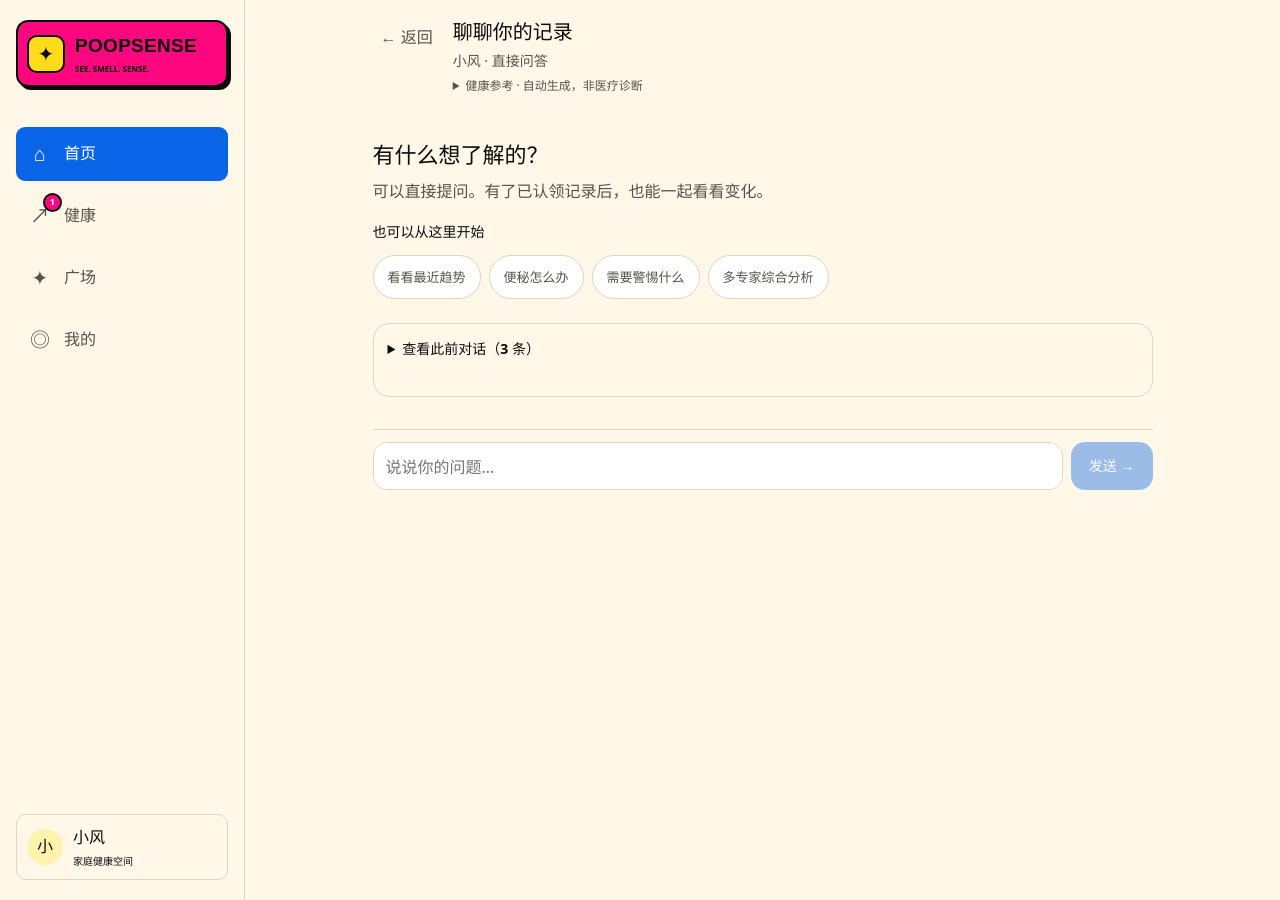
Test: model routing provenance › restores each saved model and leaves legacy messages without a guessed source
Click the heading "查看此前对话（3 条）" at (471, 349), box [402, 339, 540, 358]
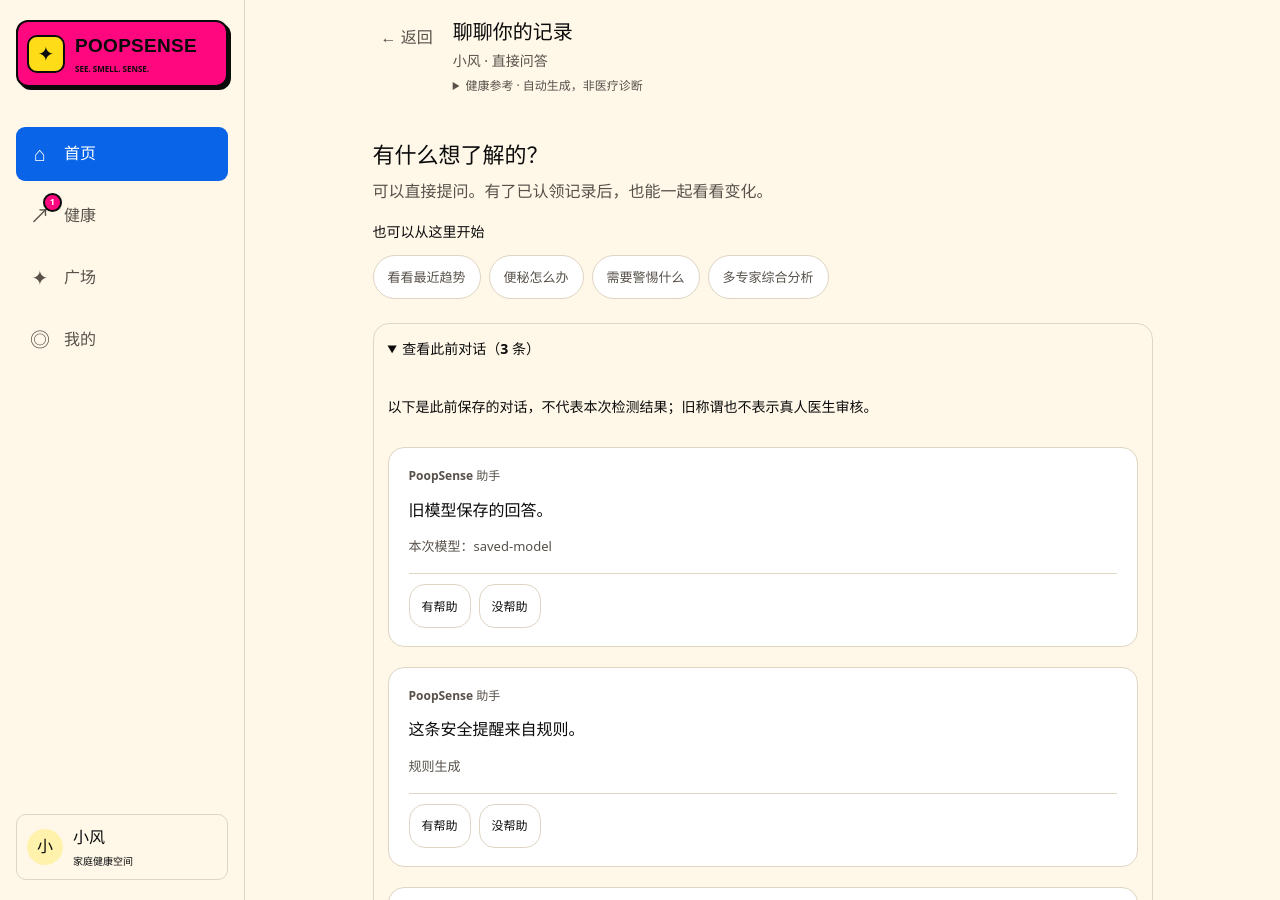
Expected: the text "旧模型保存的回答。" does not show "new-current-model", [388, 447, 1138, 647]
Expected: the text "本次模型：saved-model" is shown, [408, 537, 552, 555]
Expected: the text "规则生成" is shown, [408, 757, 460, 775]
